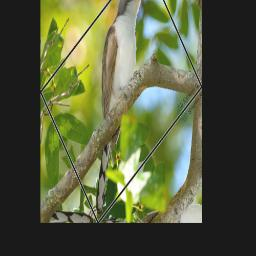Cuckoo: (44, 0, 196, 220)
